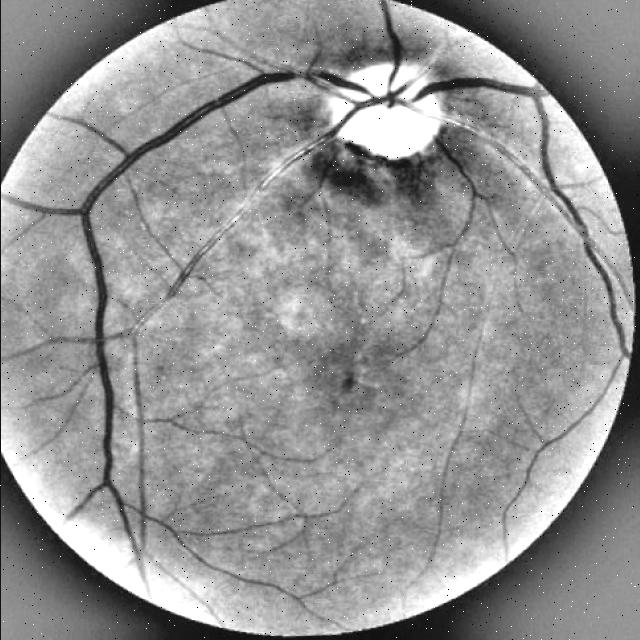Macula: (315, 342, 380, 409)
Nerves: (74, 69, 334, 480), (129, 134, 325, 330), (457, 71, 565, 200), (452, 119, 541, 196), (378, 0, 402, 61)
Optic Disk: (328, 63, 445, 158)
